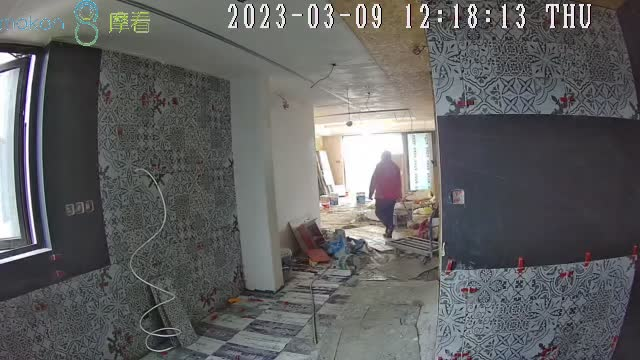people: (369, 151, 403, 239)
window: (343, 135, 405, 195)
